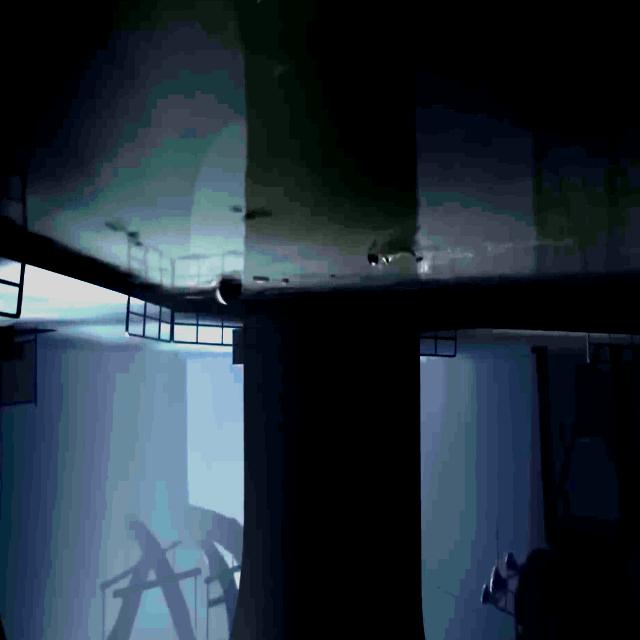boy: (366, 231, 424, 267)
structure: (125, 290, 458, 359), (0, 251, 26, 321)
